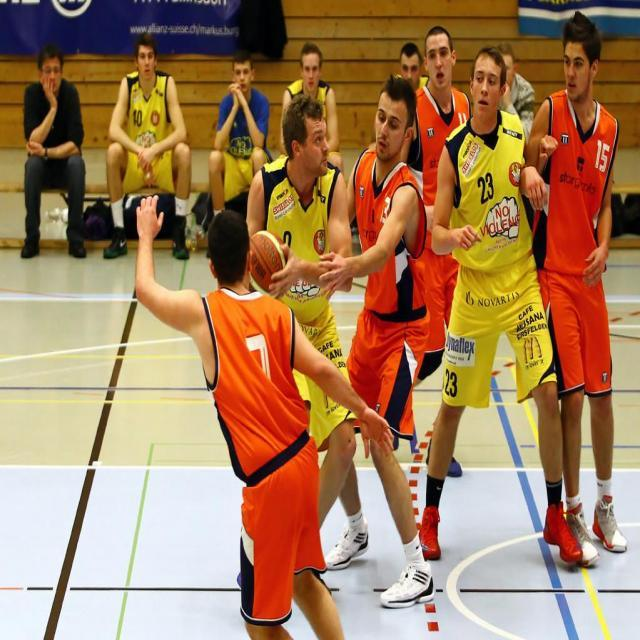rim: (247, 230, 290, 300)
